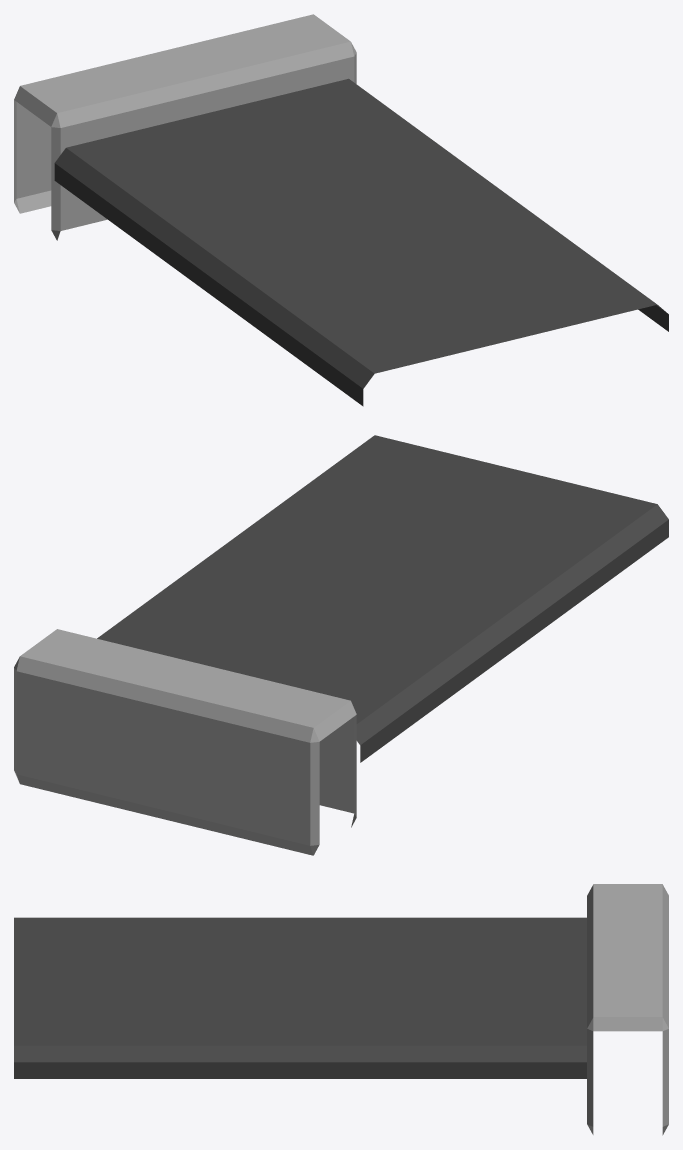
The model's file is Larry_Map_Side_Walk_02.fbx.
3 renders of one model, top to bottom at view 1: azimuth 30°, elevation 25°; view 2: azimuth 150°, elevation 25°; view 3: azimuth 270°, elevation 25°, orthographic. The views are drawn at different scales.
Visible parts, largest first — view 1: Side_Walk_02; view 2: Side_Walk_02; view 3: Side_Walk_02.
Boxes of the visible parts, x1,y1,x2,y2 form: Side_Walk_02: (14, 14, 668, 406); Side_Walk_02: (14, 435, 668, 855); Side_Walk_02: (14, 884, 668, 1135).
Bounding box in the file's own units: 100 × 40 × 200.
